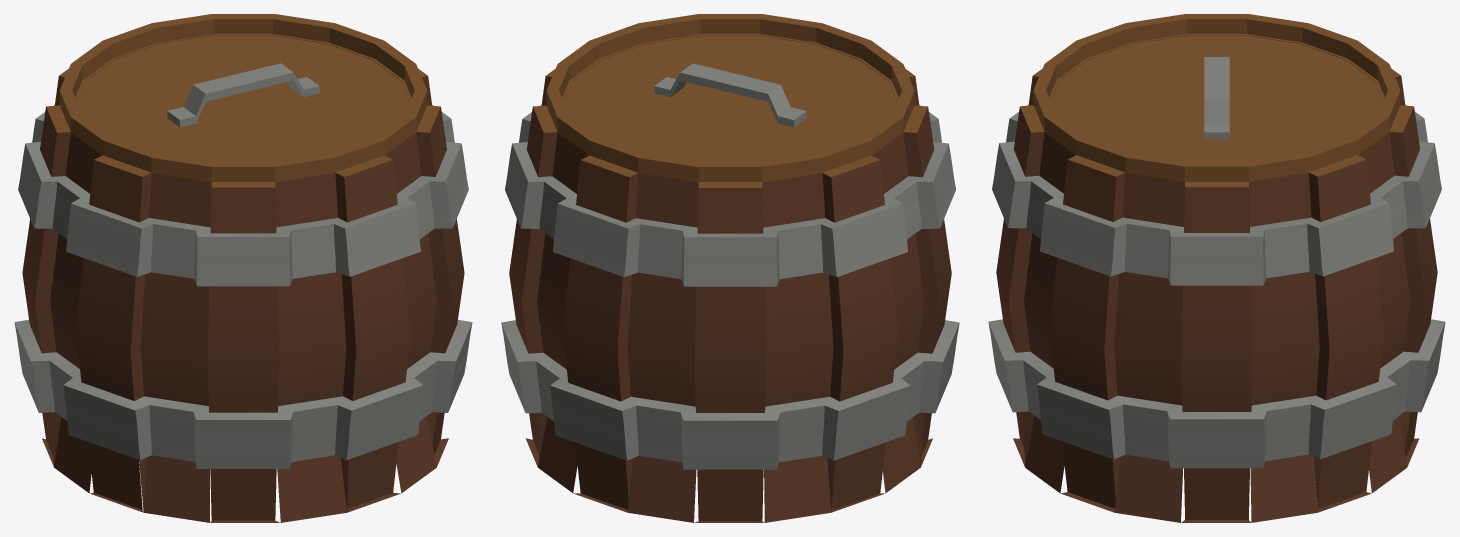
Rendered from Barrel by HFJAKI92 - wrYrHLVtxg.glb.
3 renders of one model, left to right at view 1: azimuth 30°, elevation 25°; view 2: azimuth 150°, elevation 25°; view 3: azimuth 270°, elevation 25°, orthographic.
Visible parts, largest first — view 1: Barrel_Closed; view 2: Barrel_Closed; view 3: Barrel_Closed.
Boxes of the visible parts, box(x1,y1,x2,y2) form: Barrel_Closed: box(14, 14, 472, 522); Barrel_Closed: box(501, 14, 959, 522); Barrel_Closed: box(988, 14, 1445, 522).
Size of the model in its own units: 3.43 by 3.01 by 3.48.
